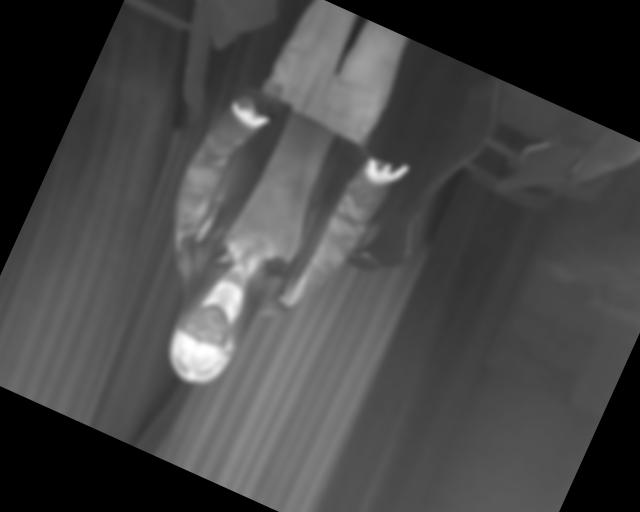face: (370, 150, 458, 252), (226, 156, 293, 235)
